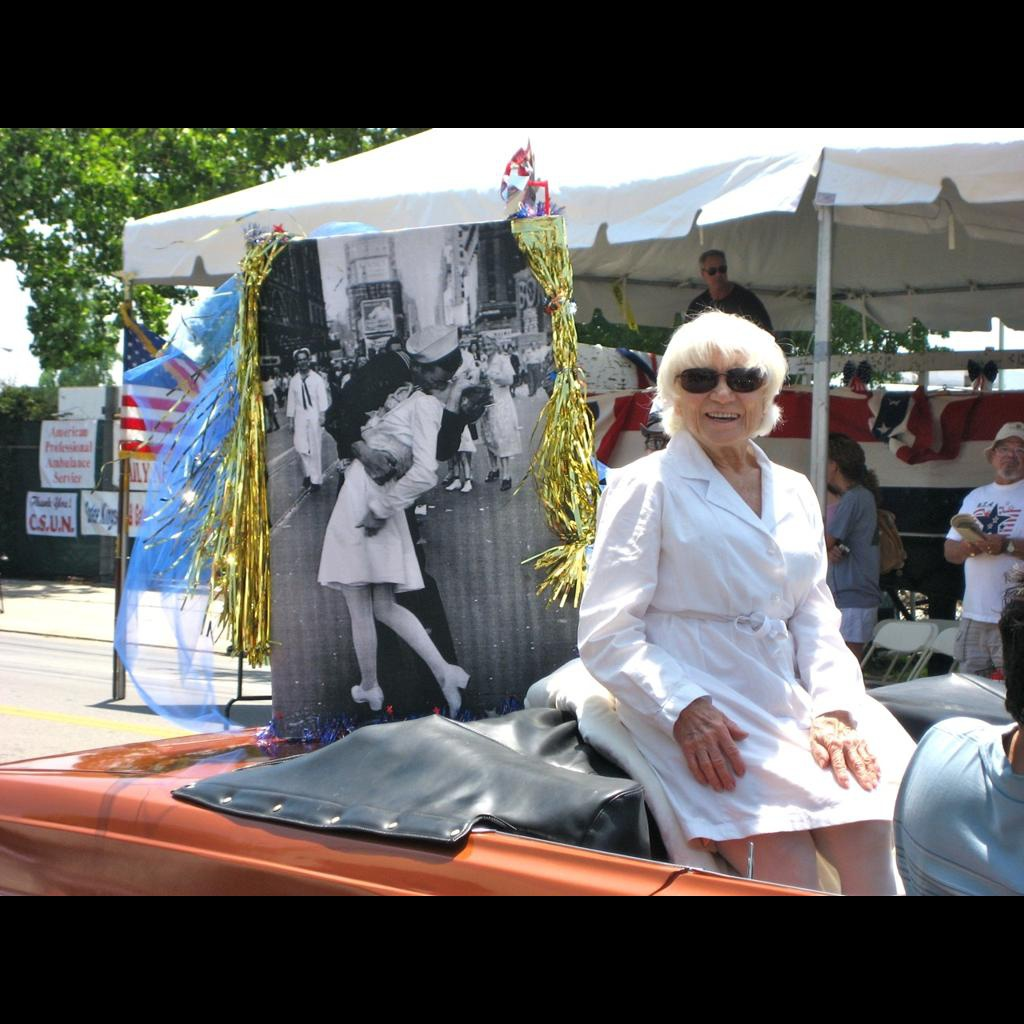face: (676, 342, 764, 446), (991, 434, 1024, 481), (701, 257, 726, 287), (421, 365, 450, 390), (817, 449, 837, 481)
